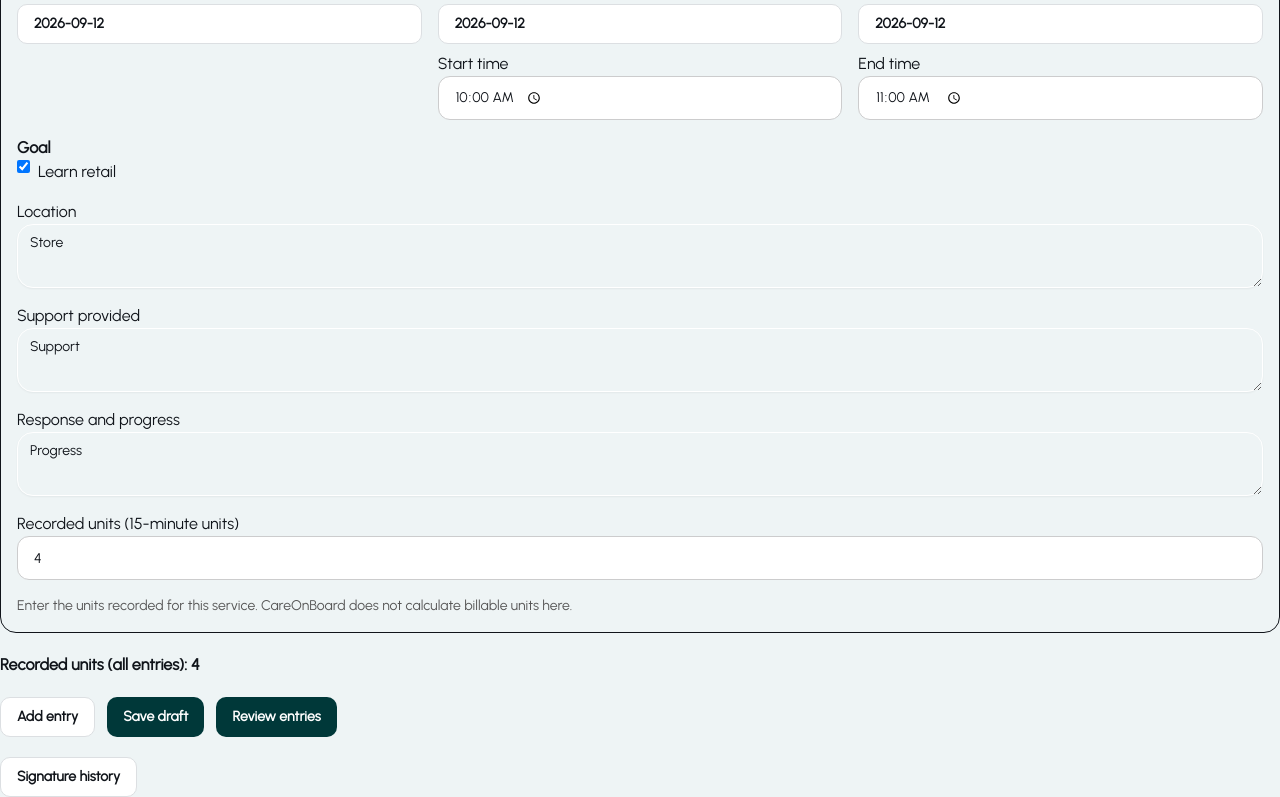
keeps an uncertain signature frozen and retries identical intent
The image size is (1280, 797).
Later steps or results of the test are not shown.
(page scrolled)
expect the text box showing "Support" is shown: met, box left=17, top=328, right=1263, bottom=392
Click the button "Review entries" at (277, 717), box left=216, top=697, right=337, bottom=737
(page scrolled)
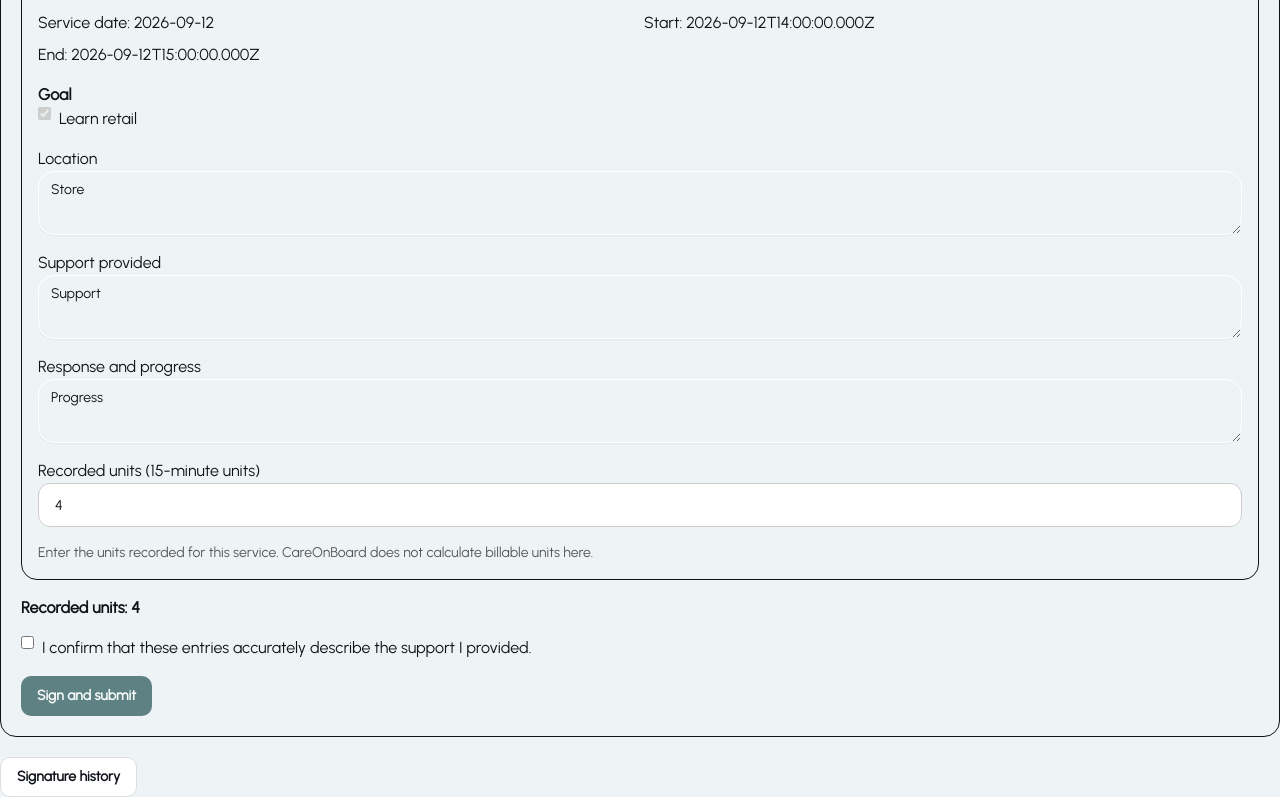
Click the checkbox labelled "I confirm that these entries accurately describe the support I provided." at (28, 642), box left=21, top=636, right=34, bottom=649
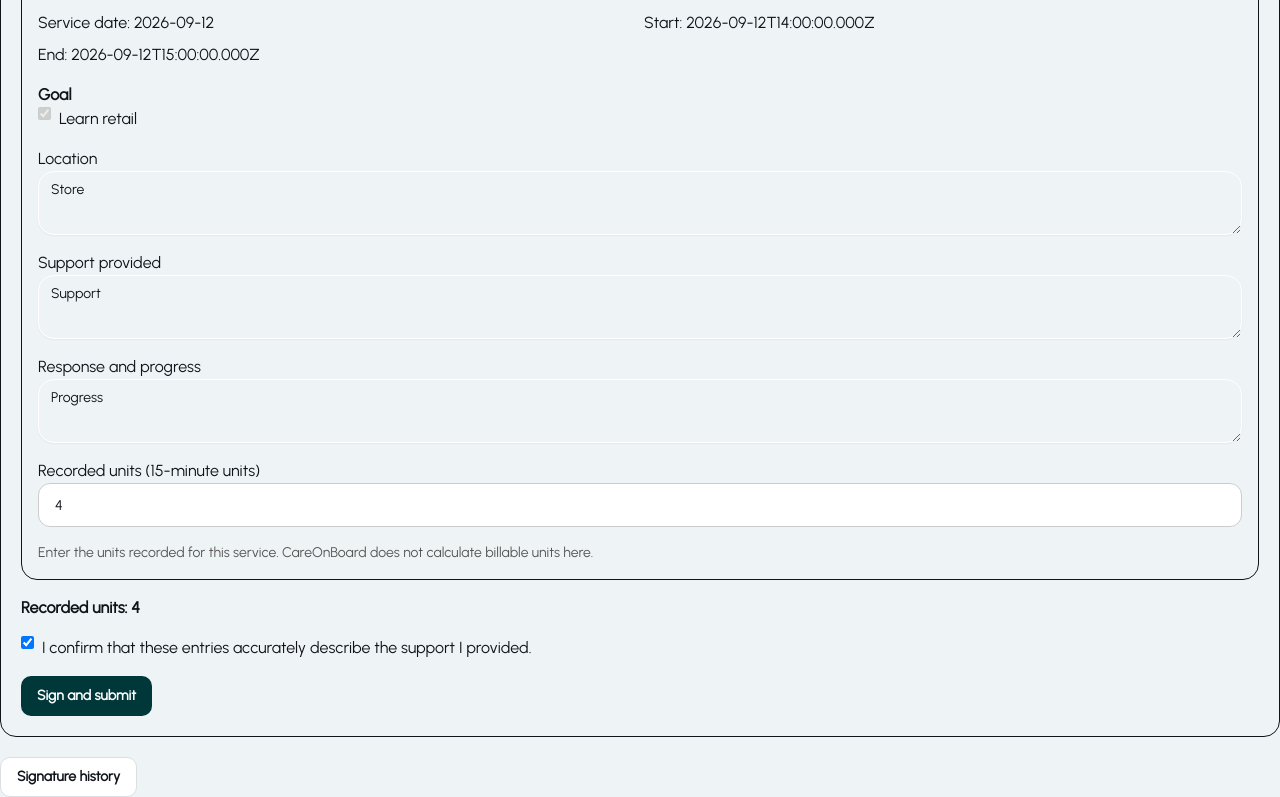
Click the button "Sign and submit" at (86, 696), box left=21, top=676, right=152, bottom=716
(page scrolled)
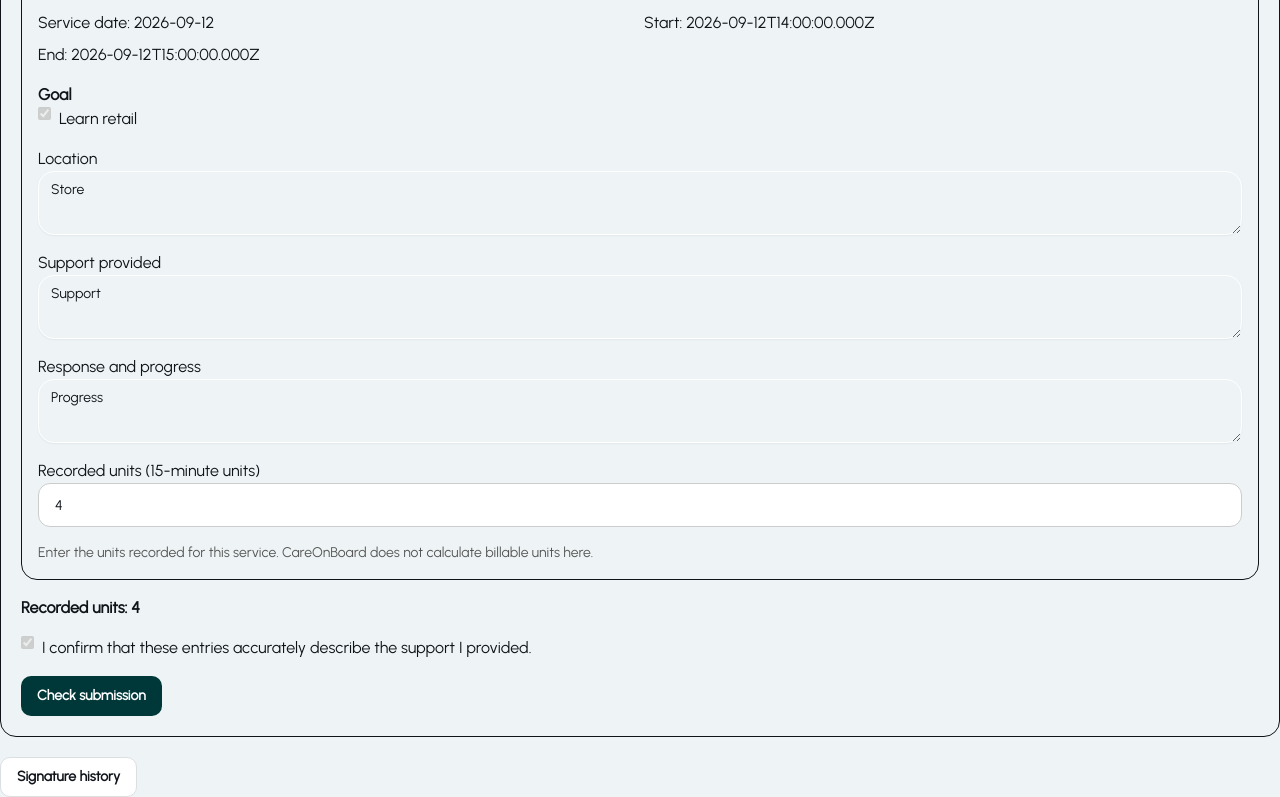
expect the button "Check submission" is shown: met, box left=21, top=676, right=162, bottom=716
